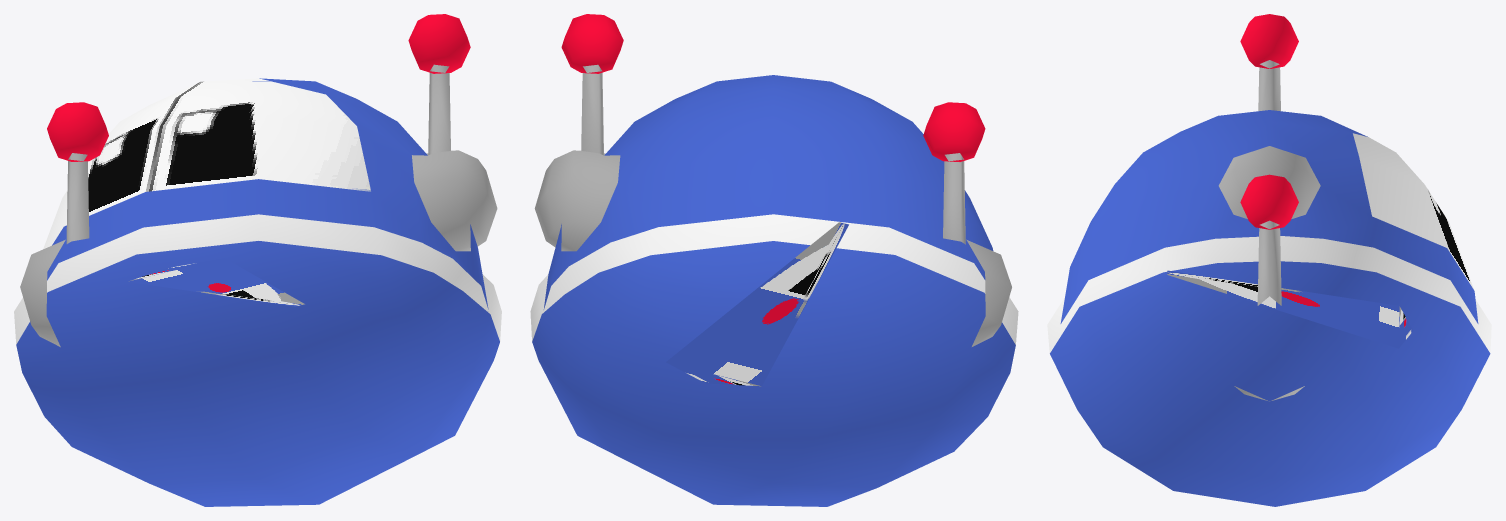
File: ps2_save-icons_buzzjuniorrobojam.glb
The picture shows the model from 3 angles, left to right: view 1: azimuth 30°, elevation 25°; view 2: azimuth 150°, elevation 25°; view 3: azimuth 270°, elevation 25°; orthographic projection. The views are drawn at different scales.
Parts seen in each view (by area): view 1: icon1.ico; view 2: icon1.ico; view 3: icon1.ico.
Part boxes in pixels (x1=…): icon1.ico: x1=14, y1=14, x2=501, y2=506; icon1.ico: x1=530, y1=14, x2=1018, y2=506; icon1.ico: x1=1047, y1=14, x2=1491, y2=506.
Size of the model in its own units: 2.57 by 2.28 by 2.39.
1 material, 1 textured.
